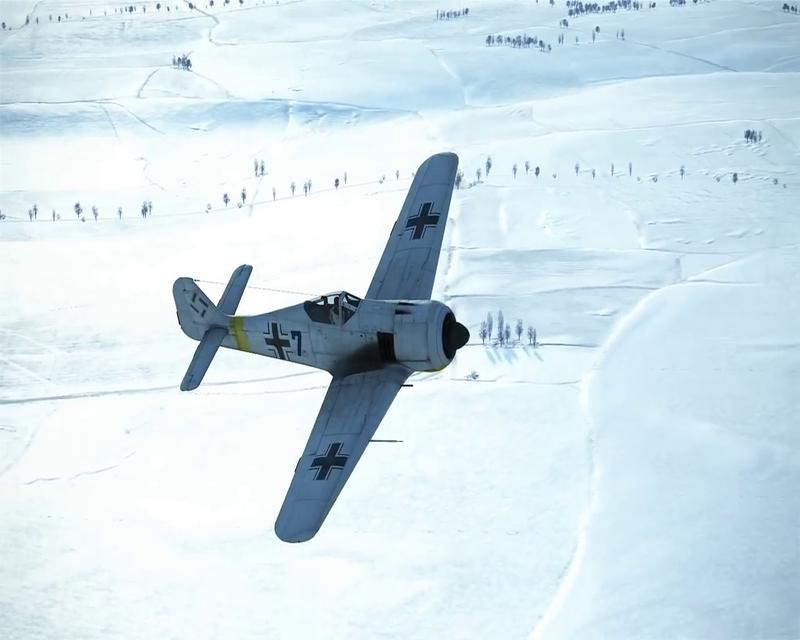UAV: (172, 151, 472, 544)
